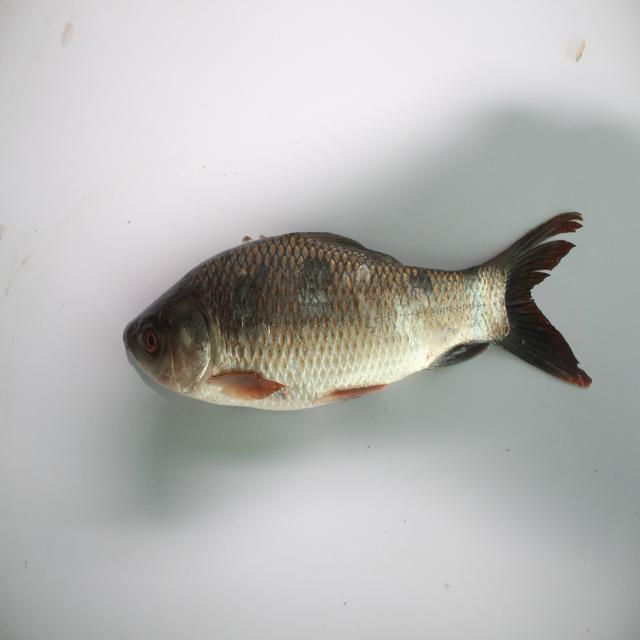Rohu: (82, 194, 601, 434)
